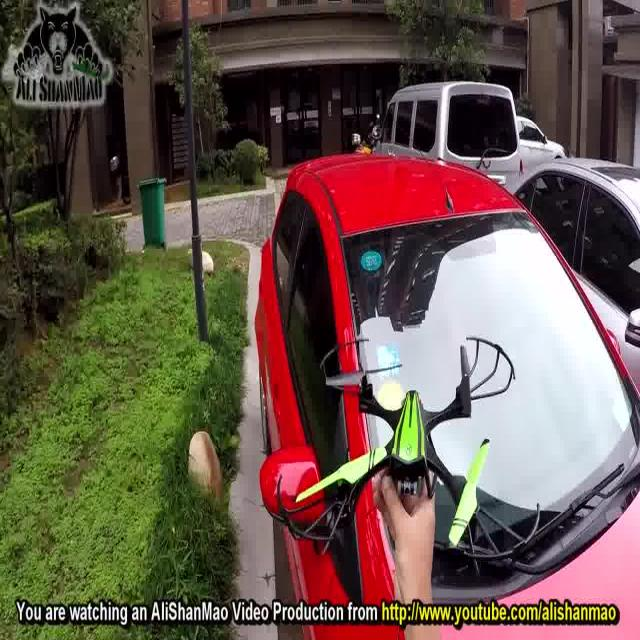drones: (272, 324, 544, 570)
